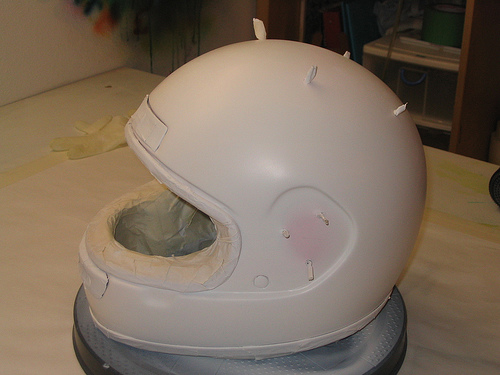helmet: (108, 47, 427, 334)
